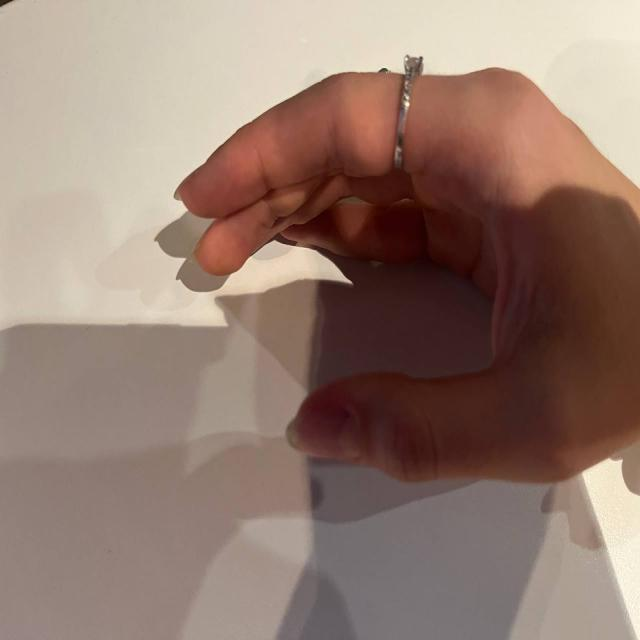s: (134, 53, 640, 485)
